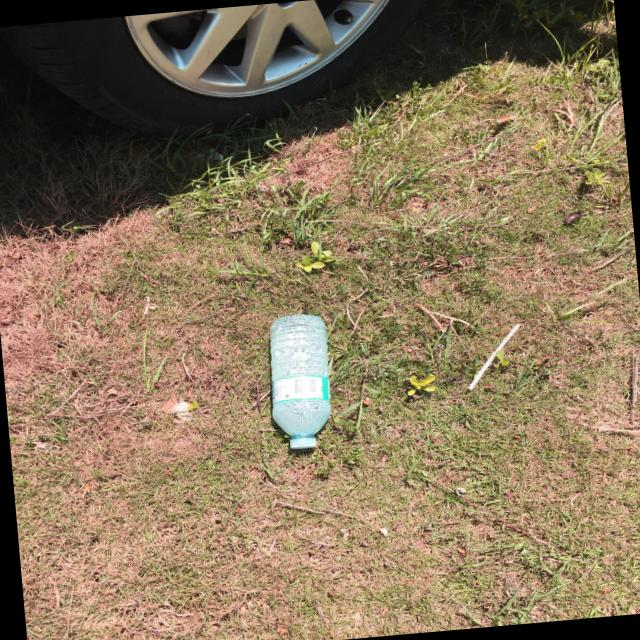less trash: (270, 314, 330, 448)
